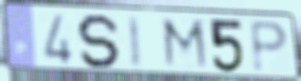4: (42, 13, 74, 67)
5: (206, 18, 248, 74)
I: (125, 14, 143, 70)
M: (160, 16, 213, 73)
P: (248, 18, 291, 76)
S: (75, 13, 123, 70)
